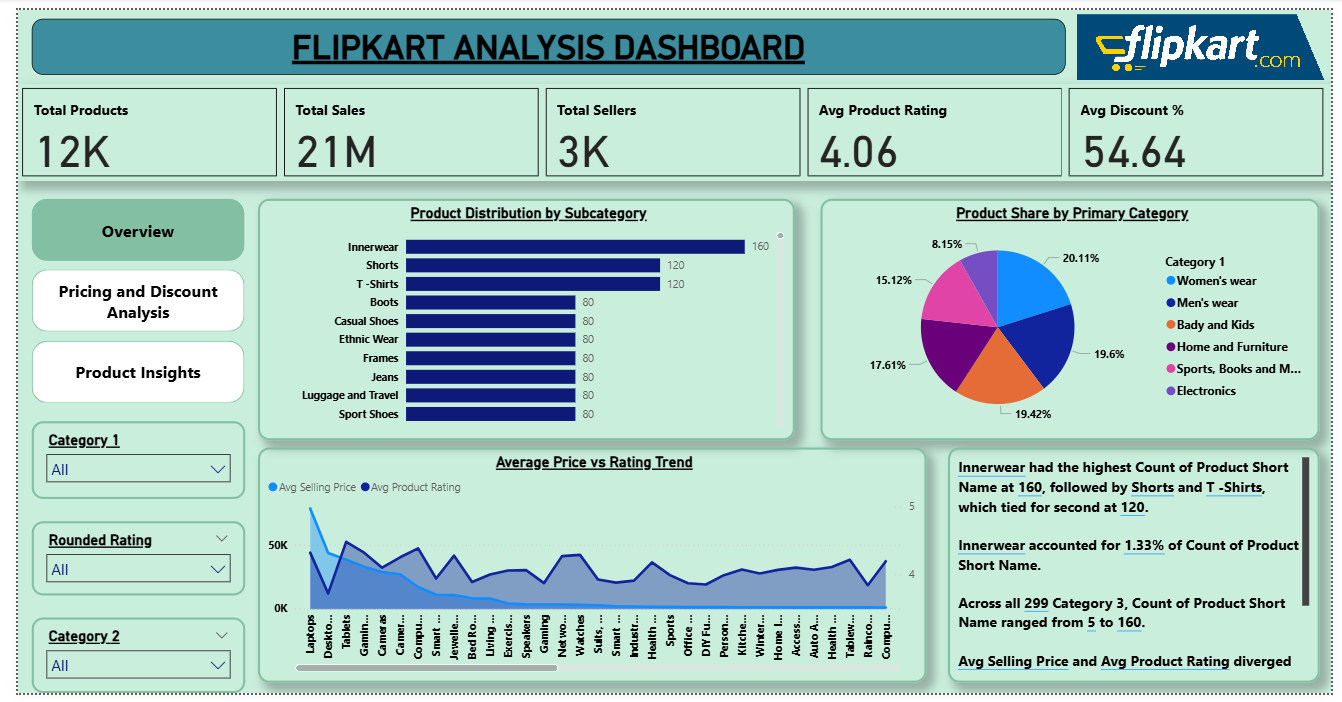

This screenshot's page, from the dashboard's own definition file:
{"tool":"powerbi","page":{"name":"Overview","canvas":[1500,780],"ordinal":0},"visuals":[{"type":"textbox","box":[15,10,1181.2,63.8],"z":0},{"type":"barChart","title":"Product Distribution by Subcategory","fields":{"Y":["CountNonNull(dataset.Product Short Name)"],"Category":["dataset.Category 3"]},"box":[273.8,215,613.8,276.2],"z":1000},{"type":"pieChart","title":"Product Share by Primary Category","fields":{"Category":["dataset.Category 1"],"Y":["CountNonNull(dataset.Product Short Name)"]},"box":[917.2,215.6,570.6,276.1],"z":2000},{"type":"areaChart","title":"Average Price vs Rating Trend","fields":{"Y":["Measure Table.Avg Selling Price"],"Y2":["Measure Table.Avg Product Rating"],"Category":["dataset.Category 2"]},"box":[273.8,500,763.8,268.8],"z":3000},{"type":"slicer","fields":{"Values":["dataset.Category 1"]},"box":[15.5,470.6,243.7,88.8],"z":4000},{"type":"slicer","fields":{"Values":["dataset.Rounded Rating"]},"box":[15.5,584.7,243.7,84.5],"z":5000},{"type":"cardVisual","fields":{"Data":["Measure Table.Total Products","Measure Table.Total Sales","Measure Table.Total Sellers","Measure Table.Avg Product Rating","Measure Table.Avg Discount %"]},"box":[0,84.5,1500.5,111.3],"z":6000},{"type":"slicer","fields":{"Values":["dataset.Category 2"]},"box":[15,693.8,243.8,86.2],"z":7000},{"type":"textbox","box":[1062.5,500,425,268.8],"z":8000},{"type":"image","box":[1202.5,0,297.5,85],"z":9000},{"type":"pageNavigator","box":[15.5,215.6,243.7,233.9],"z":10000}]}

Visuals, with their boxes in screenshot pixels (x1, y1, x2, y2), scaled from the page's 1500x780 canvas onto the 1342x702 screenshot:
textbox: box=[13, 9, 1070, 66]
"Product Distribution by Subcategory" barChart: box=[245, 194, 794, 442]
"Product Share by Primary Category" pieChart: box=[821, 194, 1331, 443]
"Average Price vs Rating Trend" areaChart: box=[245, 450, 928, 692]
slicer - dataset.Category 1: box=[14, 424, 232, 503]
slicer - dataset.Rounded Rating: box=[14, 526, 232, 602]
cardVisual - Measure Table.Total Products x Measure Table.Total Sales: box=[0, 76, 1341, 176]
slicer - dataset.Category 2: box=[13, 624, 232, 701]
textbox: box=[951, 450, 1331, 692]
image: box=[1076, 0, 1341, 76]
pageNavigator: box=[14, 194, 232, 405]
